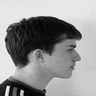ear: (28, 45, 50, 68)
